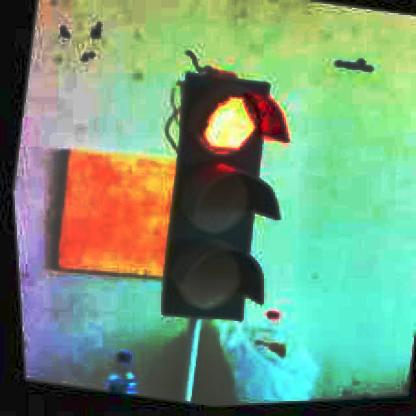Traffic Light -Red-: (145, 72, 302, 331)
